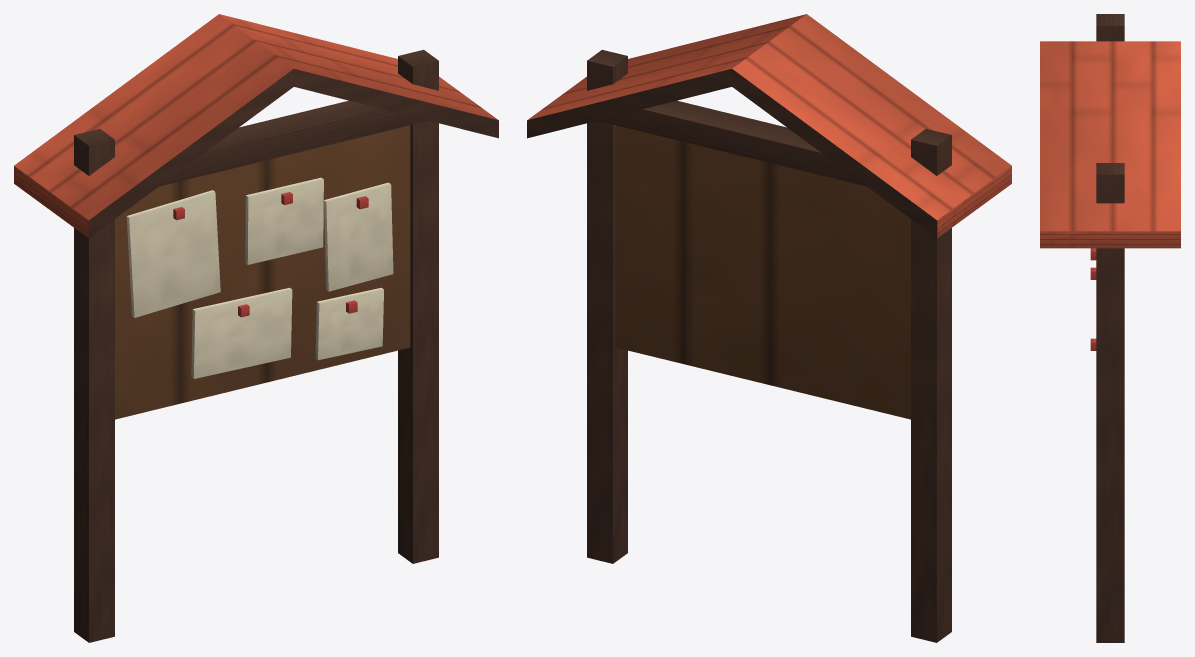
The model's file is prop_notice_board_01.glb.
The picture shows the model from 3 angles, left to right: view 1: azimuth 30°, elevation 25°; view 2: azimuth 150°, elevation 25°; view 3: azimuth 270°, elevation 25°; orthographic projection. The views are drawn at different scales.
Visible parts, largest first — view 1: prop_notice_board_01; view 2: prop_notice_board_01; view 3: prop_notice_board_01.
Part boxes in pixels (box(x1,y1,x2,y2)): prop_notice_board_01: box(14, 14, 498, 642); prop_notice_board_01: box(527, 14, 1011, 642); prop_notice_board_01: box(1040, 14, 1180, 642).
Size of the model in its own units: 1.9 by 2.45 by 0.6.
1 material, 1 textured.
